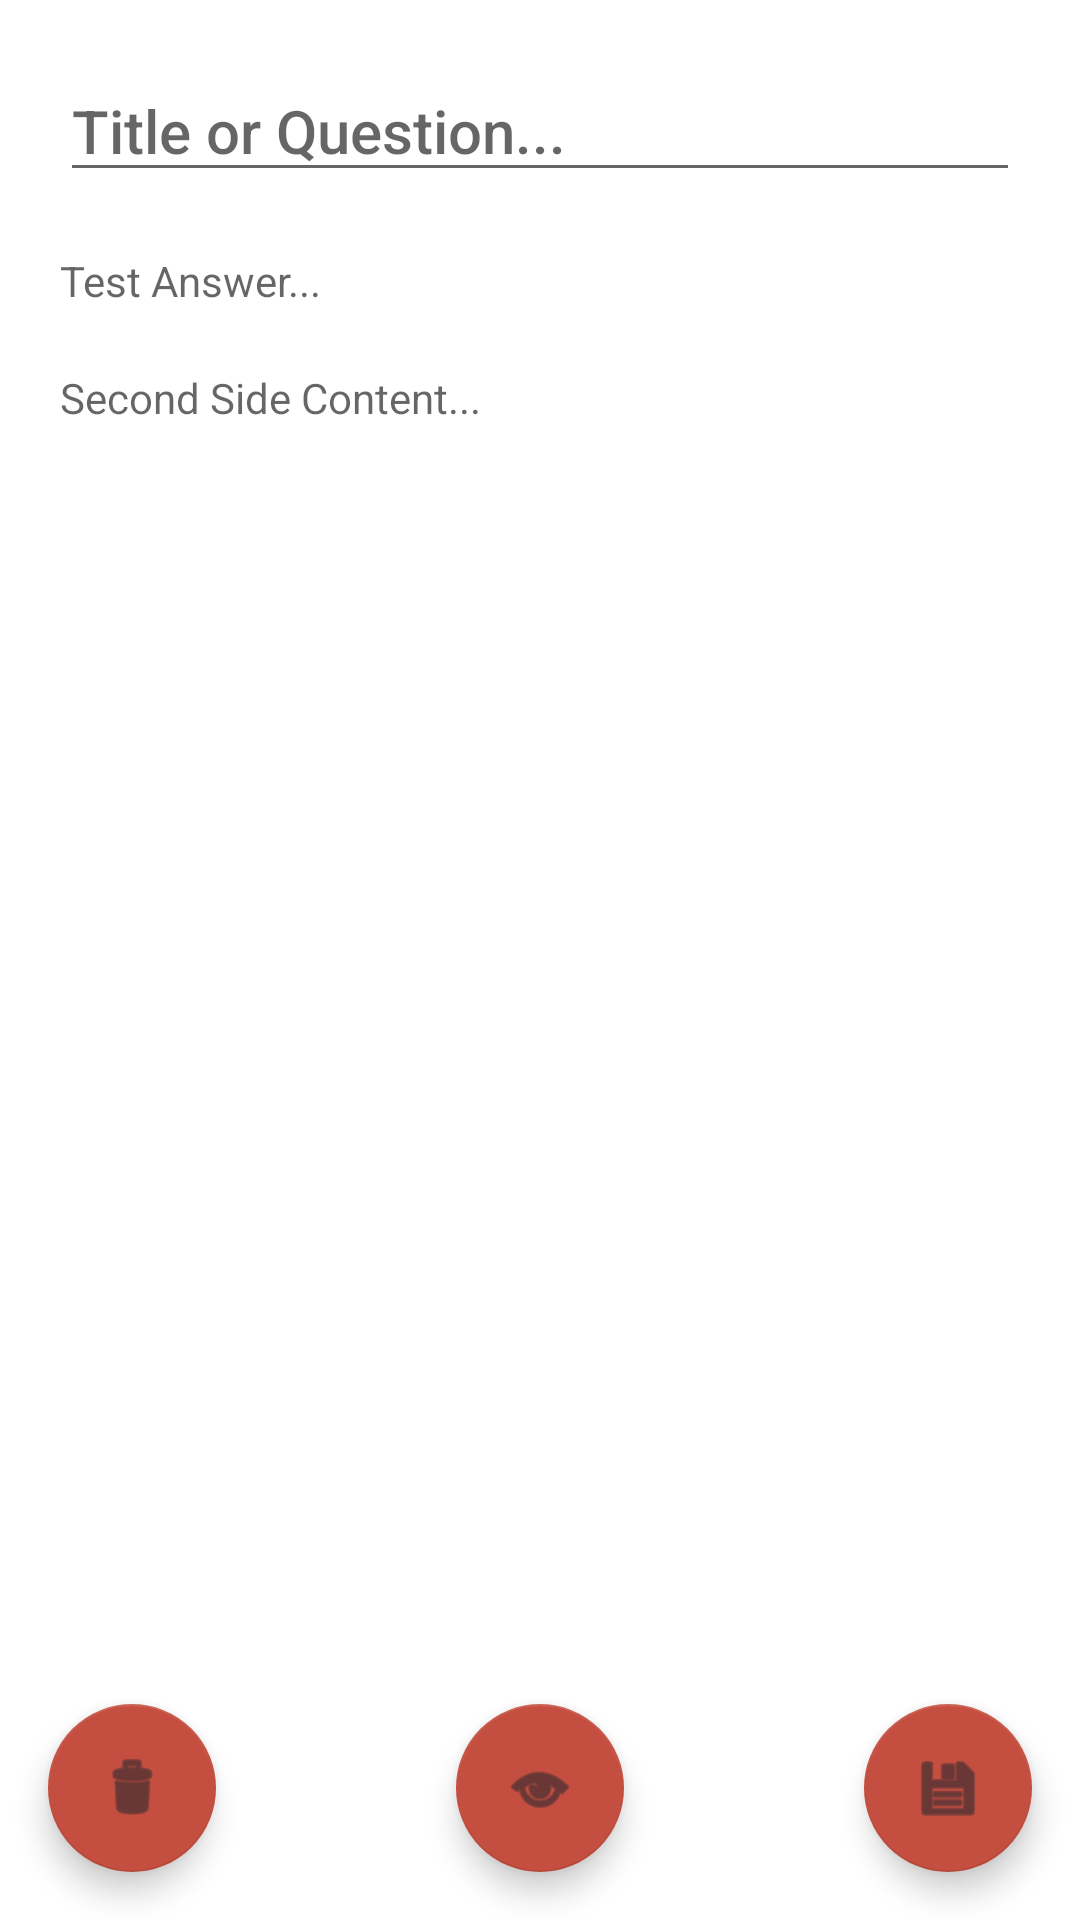

Named icons in this screenshot (1080*1920) and their bounding boxes, {"x1": x1, "y1": y1, "x2": x2, "y2": y2}:
delete: {"x1": 48, "y1": 1704, "x2": 216, "y2": 1872}
save: {"x1": 864, "y1": 1704, "x2": 1032, "y2": 1872}
view: {"x1": 456, "y1": 1704, "x2": 624, "y2": 1872}
